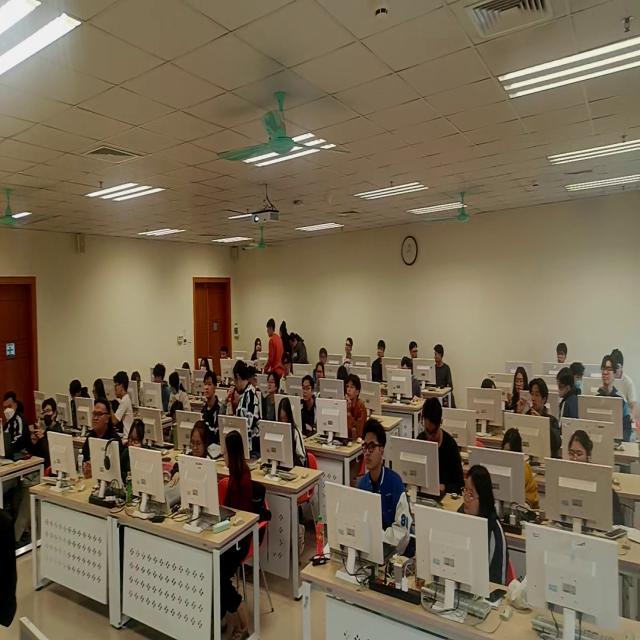raise_head: (340, 421, 412, 557), (438, 470, 505, 590), (585, 358, 626, 442), (513, 383, 554, 458), (79, 398, 113, 484), (1, 390, 23, 467), (196, 372, 223, 432), (505, 365, 533, 420), (339, 377, 363, 440), (293, 379, 314, 437), (544, 339, 571, 384), (369, 335, 391, 387), (248, 332, 266, 366), (338, 333, 356, 366), (314, 358, 327, 400)
stand: (232, 361, 260, 465), (266, 319, 285, 381), (290, 329, 311, 375)
using_computer: (551, 435, 599, 529), (411, 402, 457, 500), (496, 431, 536, 513), (117, 418, 149, 506), (472, 375, 502, 434), (390, 359, 420, 407), (66, 377, 88, 430), (85, 378, 108, 415), (613, 347, 632, 389), (216, 343, 236, 376)
using_phone: (32, 396, 63, 482)
